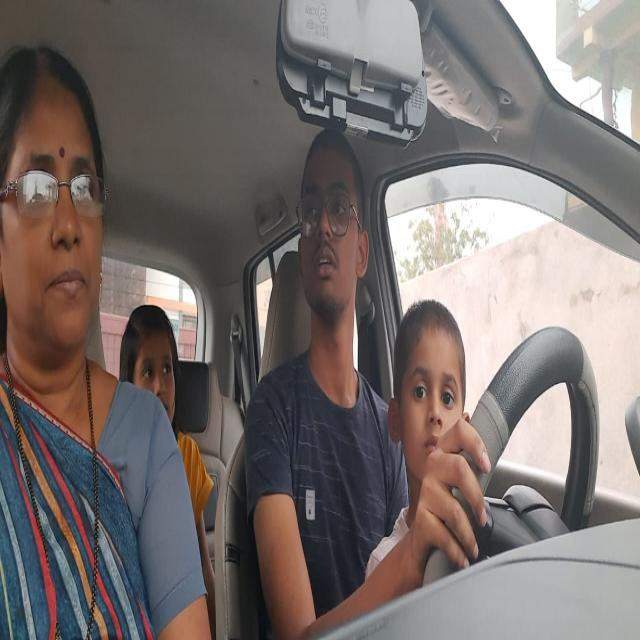child: (387, 297, 474, 524)
person: (0, 43, 109, 383), (298, 120, 370, 346), (118, 302, 183, 445)
